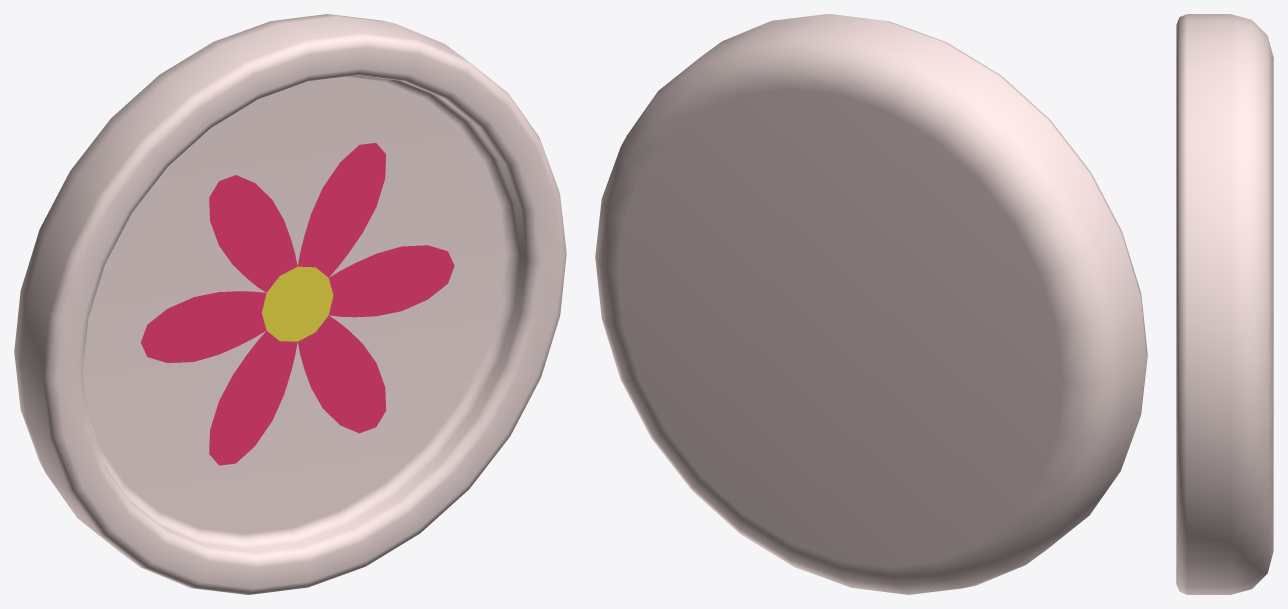
File: City_12_Decor_Plate_4.glb
3 renders of one model, left to right at view 1: azimuth 30°, elevation 25°; view 2: azimuth 150°, elevation 25°; view 3: azimuth 270°, elevation 25°, orthographic. The views are drawn at different scales.
Visible parts, largest first — view 1: City_12_Decor_Plate_4; view 2: City_12_Decor_Plate_4; view 3: City_12_Decor_Plate_4.
Boxes of the visible parts, <box> form: City_12_Decor_Plate_4: <box>14,14,566,594</box>; City_12_Decor_Plate_4: <box>595,14,1147,594</box>; City_12_Decor_Plate_4: <box>1176,14,1273,594</box>.
Bounding box in the file's own units: 0.5139 × 0.5139 × 0.0859.
Materials: 1 (1 with a texture image).
